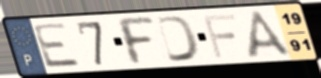7: (74, 20, 104, 67)
A: (246, 9, 296, 60)
D: (154, 14, 201, 64)
E: (30, 21, 84, 70)
F: (113, 16, 158, 67), (201, 13, 238, 60)
